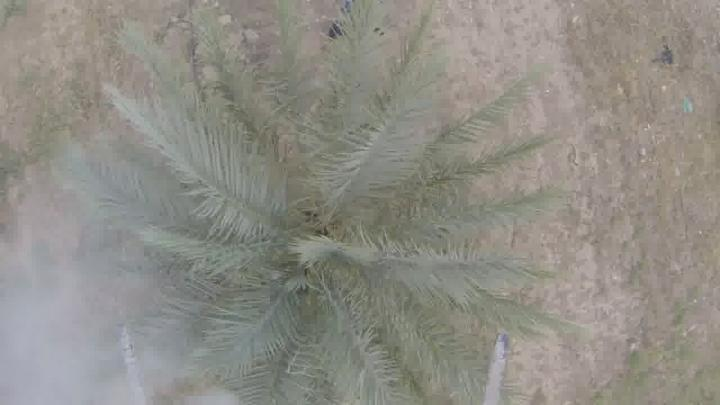Date-Palm-Crown: (179, 126, 456, 376)
